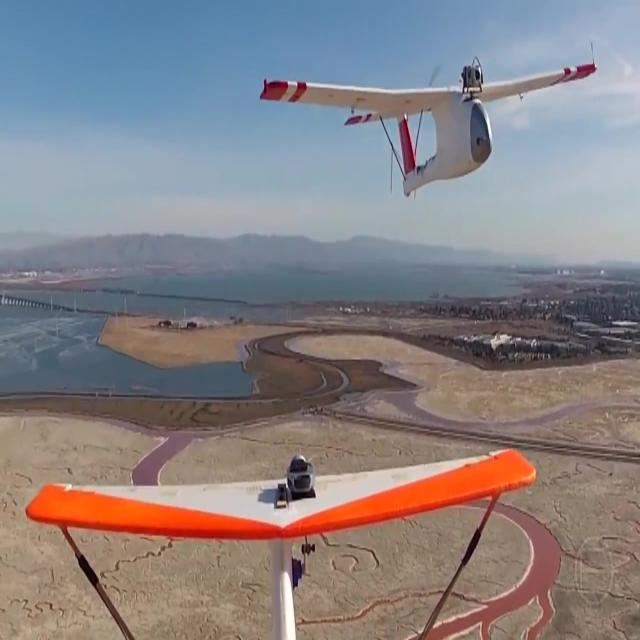iha: (258, 0, 597, 143)
